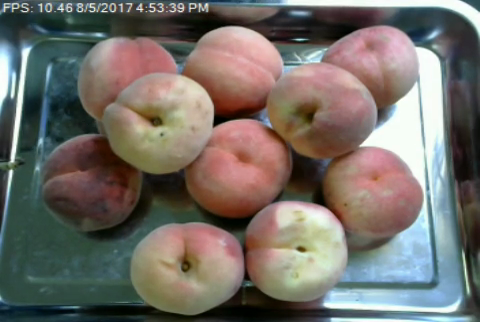Peach: (103, 74, 216, 175), (266, 63, 381, 162), (243, 200, 349, 302), (183, 118, 291, 218), (128, 224, 244, 316), (39, 133, 142, 232), (321, 146, 424, 241), (183, 25, 283, 114), (80, 34, 174, 123), (318, 24, 418, 107)
